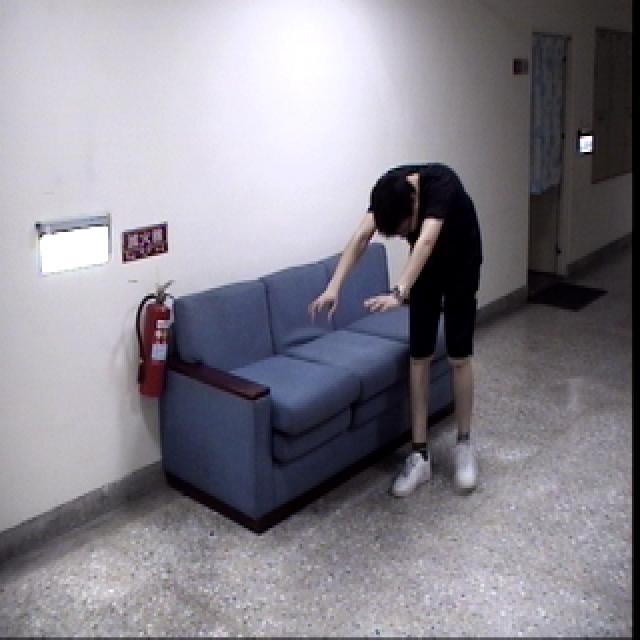bend: (306, 159, 485, 506)
